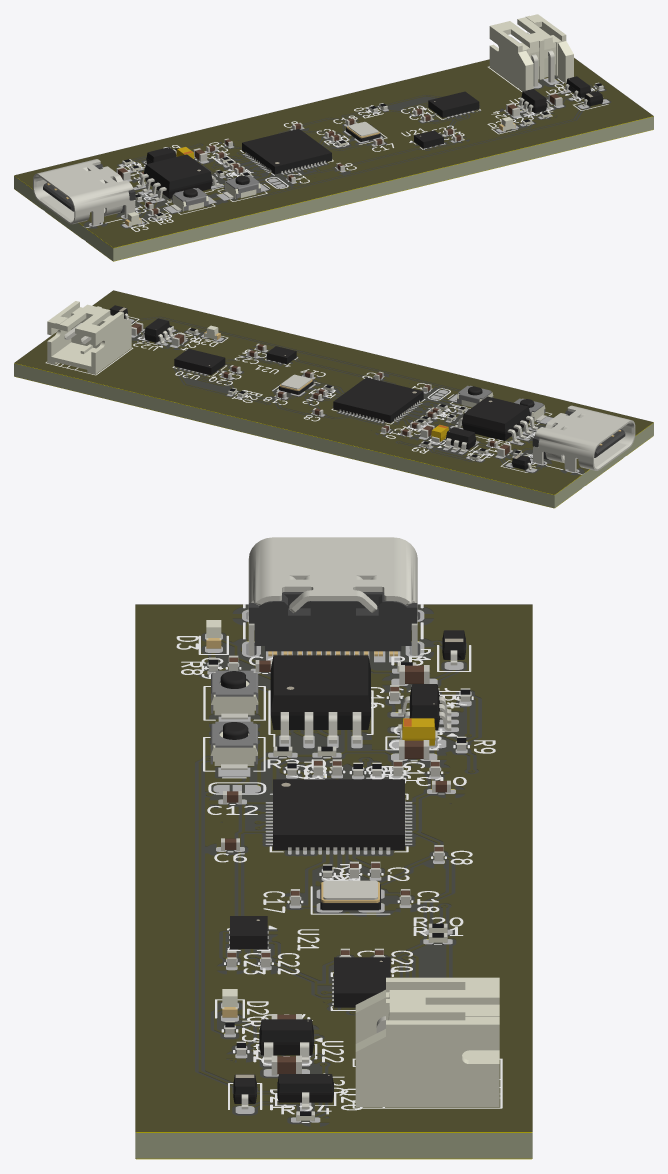
File: rocket-recorder.glb
The picture shows the model from 3 angles, top to bottom: view 1: azimuth 30°, elevation 25°; view 2: azimuth 150°, elevation 25°; view 3: azimuth 270°, elevation 25°; orthographic projection. The views are drawn at different scales.
Visible parts, largest first — view 1: Board, RP2040 core, LiPo charger, USB-C power, IMU, 3.3 V regulator, Barometer; view 2: Board, RP2040 core, LiPo charger, USB-C power, 3.3 V regulator, IMU, Barometer; view 3: Board, RP2040 core, LiPo charger, USB-C power, 3.3 V regulator, IMU, Barometer.
Boxes of the visible parts, bbox=[...] form: Board: bbox=[14, 58, 653, 261]; RP2040 core: bbox=[122, 118, 383, 215]; LiPo charger: bbox=[489, 14, 604, 130]; USB-C power: bbox=[33, 159, 141, 225]; IMU: bbox=[413, 91, 479, 121]; 3.3 V regulator: bbox=[116, 147, 207, 180]; Barometer: bbox=[414, 128, 462, 148]; Board: bbox=[14, 290, 653, 508]; RP2040 core: bbox=[276, 370, 546, 460]; LiPo charger: bbox=[47, 301, 220, 374]; USB-C power: bbox=[510, 405, 635, 472]; 3.3 V regulator: bbox=[420, 424, 511, 456]; IMU: bbox=[174, 348, 240, 378]; Barometer: bbox=[247, 343, 296, 364]; Board: bbox=[135, 604, 532, 1159]; RP2040 core: bbox=[210, 655, 470, 910]; LiPo charger: bbox=[222, 977, 499, 1121]; USB-C power: bbox=[248, 537, 465, 672]; 3.3 V regulator: bbox=[390, 665, 451, 759]; IMU: bbox=[334, 948, 390, 1007]; Barometer: bbox=[227, 916, 270, 967].
Bounding box in the file's own units: 0.0672 × 0.00825 × 0.021.
